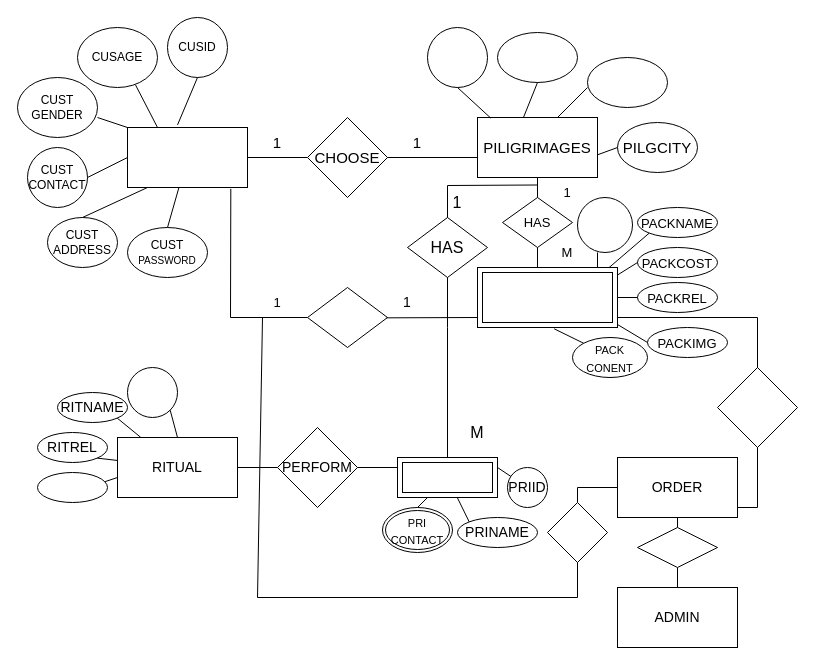
This 815x665 diagram has some shape labels left out. The box of each missing label's shape, as (x1, y1, x2, y2) in pixels:
BOOKS: (306, 286, 388, 348)
CUSTOMER: (126, 126, 248, 188)
PACKAGES: (476, 266, 618, 328)
PACKID: (576, 196, 632, 252)
PILGID: (426, 26, 488, 88)
PILGLOC: (586, 56, 668, 108)
PILGNAME: (496, 32, 578, 82)
PRIEST: (396, 456, 498, 498)
REQUEST: (716, 366, 798, 448)
RITDESC: (36, 472, 108, 502)
RITID: (126, 366, 178, 418)
UPDATE: (636, 526, 718, 568)
VIEW: (546, 502, 608, 562)
